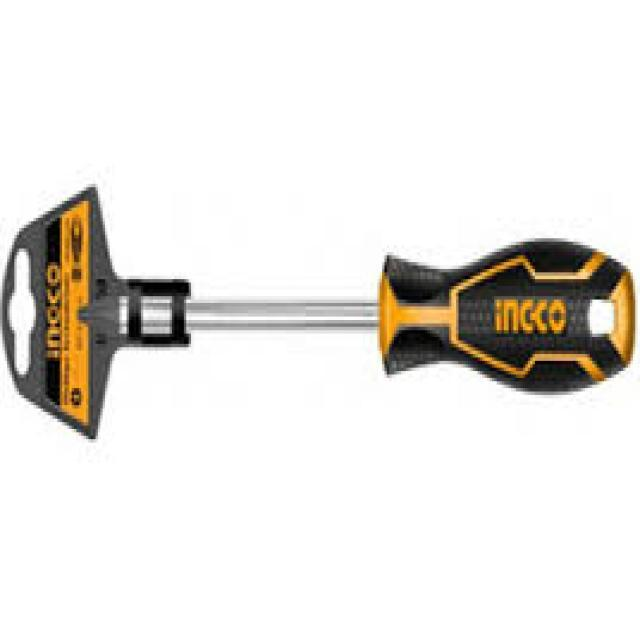screwdriver: (77, 230, 638, 400)
